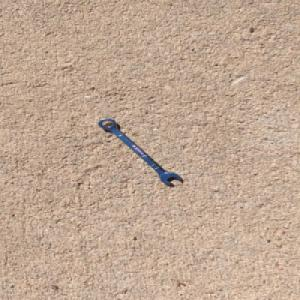Wrench: (97, 117, 182, 185)
